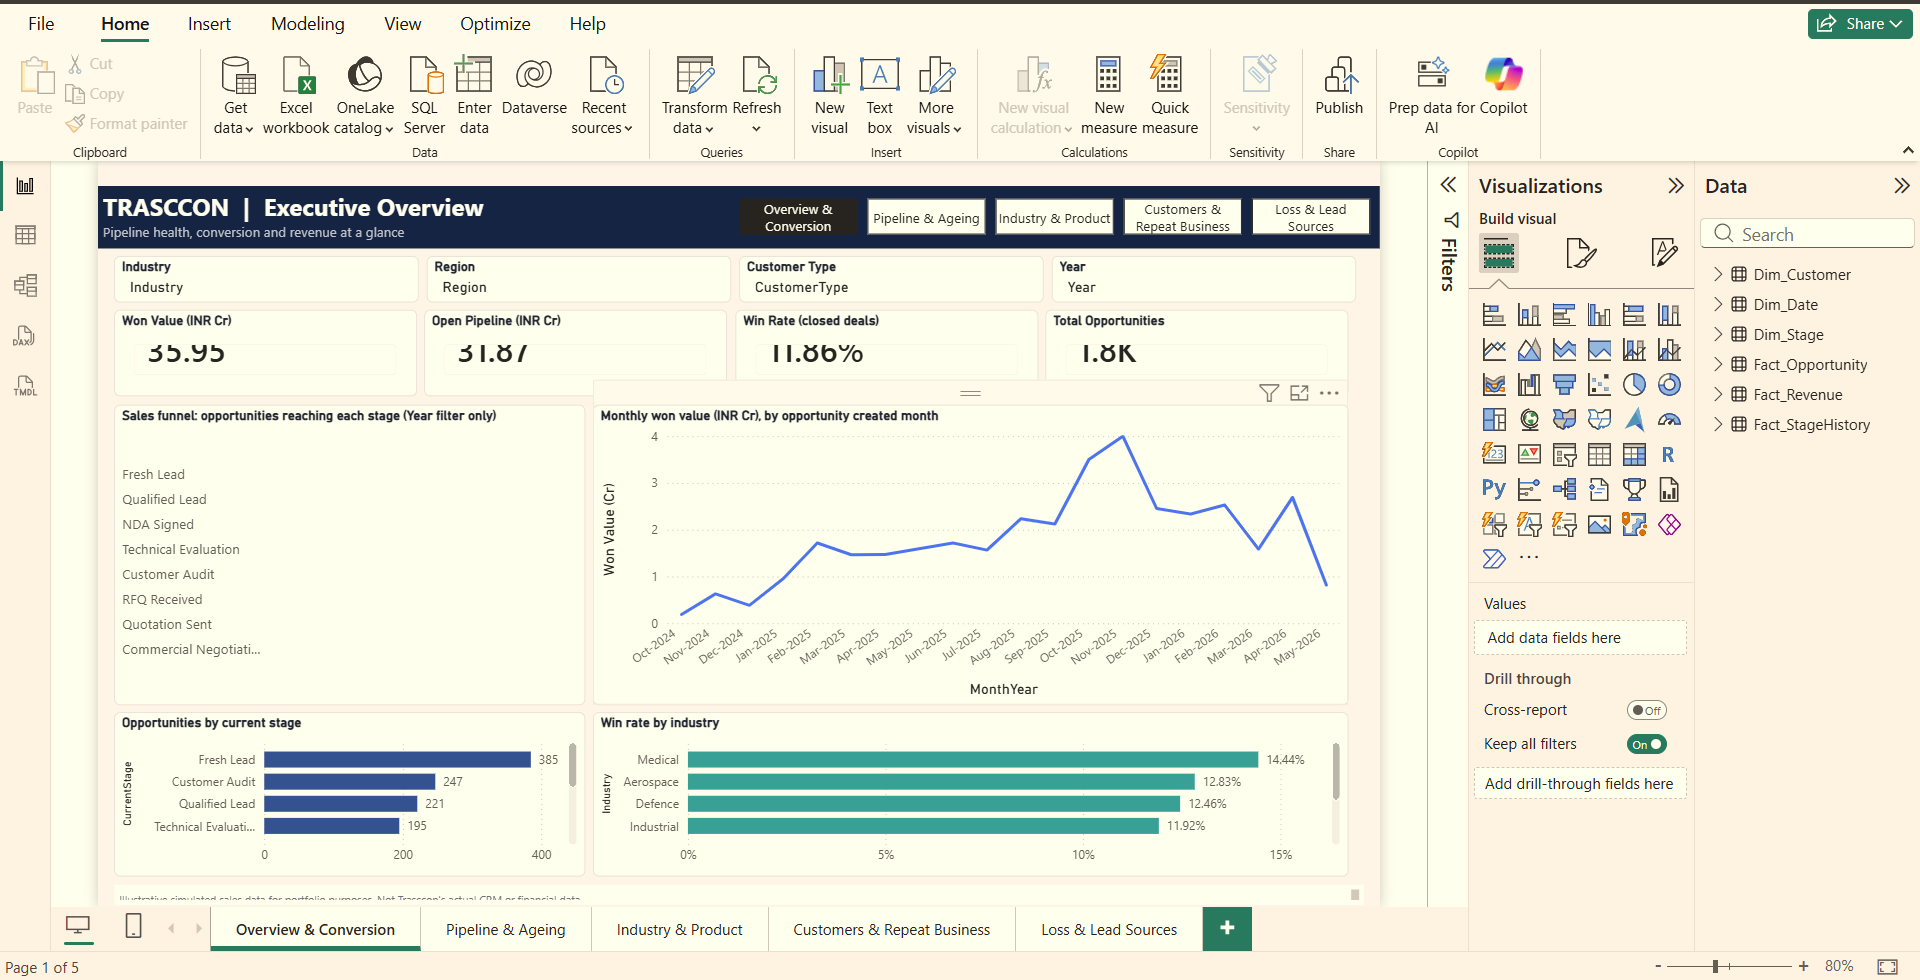

The dashboard page shown, as its layout file describes it:
{"tool":"powerbi","page":{"name":"Overview & Conversion","canvas":[1280,720],"ordinal":0},"visuals":[{"type":"textbox","box":[0,0,1280,62],"z":0},{"type":"pageNavigator","box":[640,13,632,36],"z":1000},{"type":"textbox","box":[16,698,1248,20],"z":2000},{"type":"slicer","title":"Industry","fields":{"Values":["Dim_Customer.Industry"]},"box":[16,70,304,46],"z":3000},{"type":"slicer","title":"Region","fields":{"Values":["Dim_Customer.Region"]},"box":[328,70,304,46],"z":4000},{"type":"slicer","title":"Customer Type","fields":{"Values":["Dim_Customer.CustomerType"]},"box":[640,70,304,46],"z":5000},{"type":"slicer","title":"Year","fields":{"Values":["Dim_Date.Year"]},"box":[952,70,304,46],"z":6000},{"type":"cardVisual","title":"Won Value (INR Cr)","fields":{"Data":["Dim_Customer.Won Value Cr"]},"box":[16,124,302,86],"z":7000},{"type":"cardVisual","title":"Open Pipeline (INR Cr)","fields":{"Data":["Fact_Opportunity.Open Pipeline Cr"]},"box":[326,124,302,86],"z":8000},{"type":"cardVisual","title":"Win Rate (closed deals)","fields":{"Data":["Fact_Opportunity.Win Rate"]},"box":[636,124,302,86],"z":9000},{"type":"cardVisual","title":"Total Opportunities","fields":{"Data":["Fact_Opportunity.Total Opportunities"]},"box":[946,124,302,86],"z":10000},{"type":"funnel","title":"Sales funnel: opportunities reaching each stage (Year filter only)","fields":{"Category":["Dim_Stage.StageName"],"Y":["Max(Fact_StageHistory.OpportunityID)"]},"box":[16,218,470,300],"z":11000},{"type":"lineChart","title":"Monthly won value (INR Cr), by opportunity created month","fields":{"Category":["Dim_Date.MonthYear"],"Y":["Dim_Customer.Won Value Cr"]},"box":[494,218,754,300],"z":12000},{"type":"clusteredBarChart","title":"Opportunities by current stage","fields":{"Category":["Fact_Opportunity.CurrentStage"],"Y":["CountNonNull(Fact_Opportunity.OpportunityID)"]},"box":[16,526,470,164],"z":13000},{"type":"clusteredBarChart","title":"Win rate by industry","fields":{"Category":["Dim_Customer.Industry"],"Y":["Fact_Opportunity.Win Rate"]},"box":[494,526,754,164],"z":14000}]}

Visuals, with their boxes on the page's 1280x720 design canvas (x1, y1, x2, y2). These are canvas units, not pixel positions in the 1920x980 screenshot, which may show the page scaled, cropped or inside an application window:
textbox: <bbox>0, 0, 1280, 62</bbox>
pageNavigator: <bbox>640, 13, 1272, 49</bbox>
textbox: <bbox>16, 698, 1264, 718</bbox>
"Industry" slicer: <bbox>16, 70, 320, 116</bbox>
"Region" slicer: <bbox>328, 70, 632, 116</bbox>
"Customer Type" slicer: <bbox>640, 70, 944, 116</bbox>
"Year" slicer: <bbox>952, 70, 1256, 116</bbox>
"Won Value (INR Cr)" cardVisual: <bbox>16, 124, 318, 210</bbox>
"Open Pipeline (INR Cr)" cardVisual: <bbox>326, 124, 628, 210</bbox>
"Win Rate (closed deals)" cardVisual: <bbox>636, 124, 938, 210</bbox>
"Total Opportunities" cardVisual: <bbox>946, 124, 1248, 210</bbox>
"Sales funnel: opportunities reaching each stage (Year filter only)" funnel: <bbox>16, 218, 486, 518</bbox>
"Monthly won value (INR Cr), by opportunity created month" lineChart: <bbox>494, 218, 1248, 518</bbox>
"Opportunities by current stage" clusteredBarChart: <bbox>16, 526, 486, 690</bbox>
"Win rate by industry" clusteredBarChart: <bbox>494, 526, 1248, 690</bbox>
